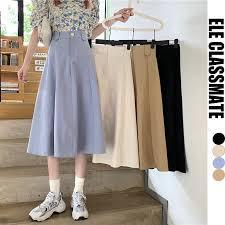skirt: (26, 29, 110, 161)
